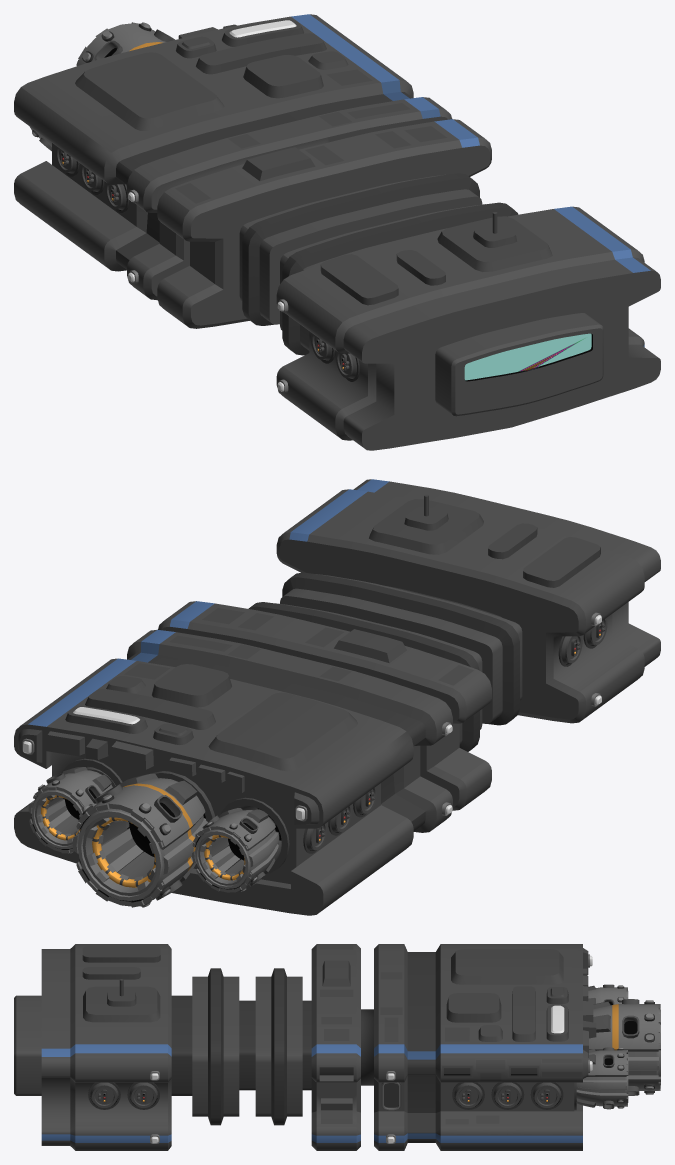
The model's file is ship.fbx.
3 renders of one model, top to bottom at view 1: azimuth 30°, elevation 25°; view 2: azimuth 150°, elevation 25°; view 3: azimuth 270°, elevation 25°, orthographic. The views are drawn at different scales.
Visible parts, largest first — view 1: Circle.003; view 2: Circle.003; view 3: Circle.003.
Part boxes in pixels (x1,y1,x2,y2): Circle.003: [14, 14, 660, 450]; Circle.003: [14, 479, 660, 915]; Circle.003: [14, 944, 660, 1150].
Bounding box in the file's own units: 20.12 × 10.45 × 44.43.
